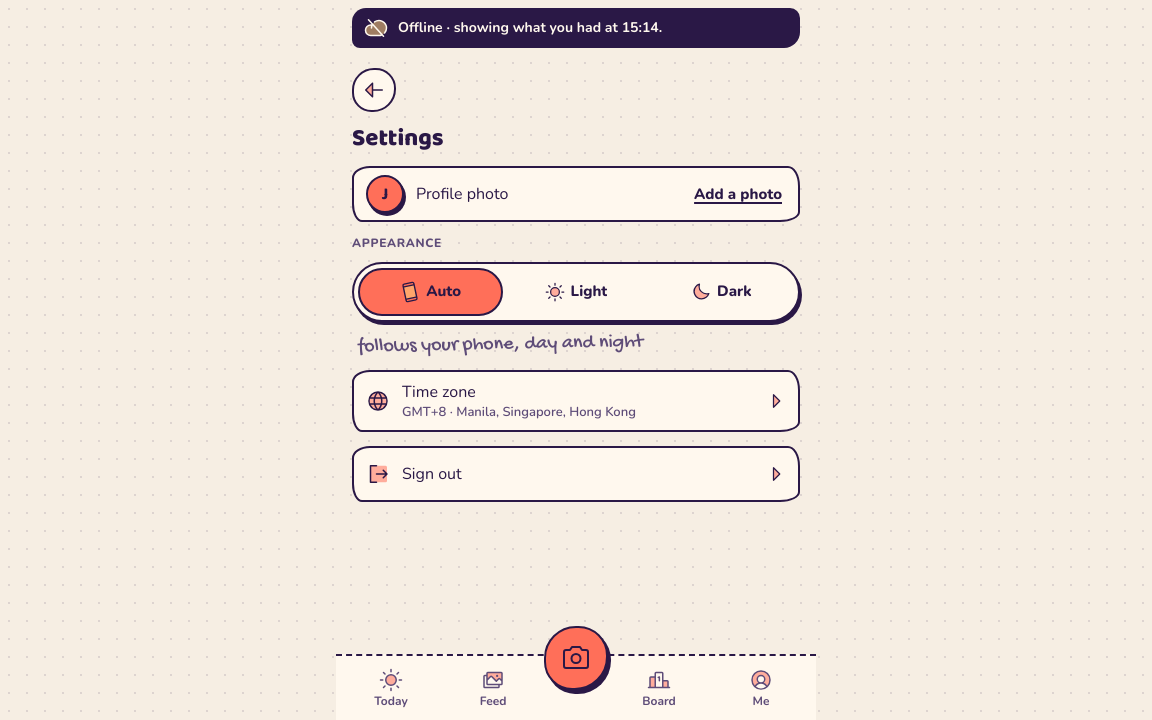
Test: sign-out with waiting photos › Sign out in the Sheet signs out, then deletes the waiting photos
Later steps or results of the test are not shown.
Expected: the heading "Settings" is shown, x1=352 y1=119 x2=444 y2=158
Click the button "Sign out": click(432, 474) x1=354 y1=448 x2=798 y2=500
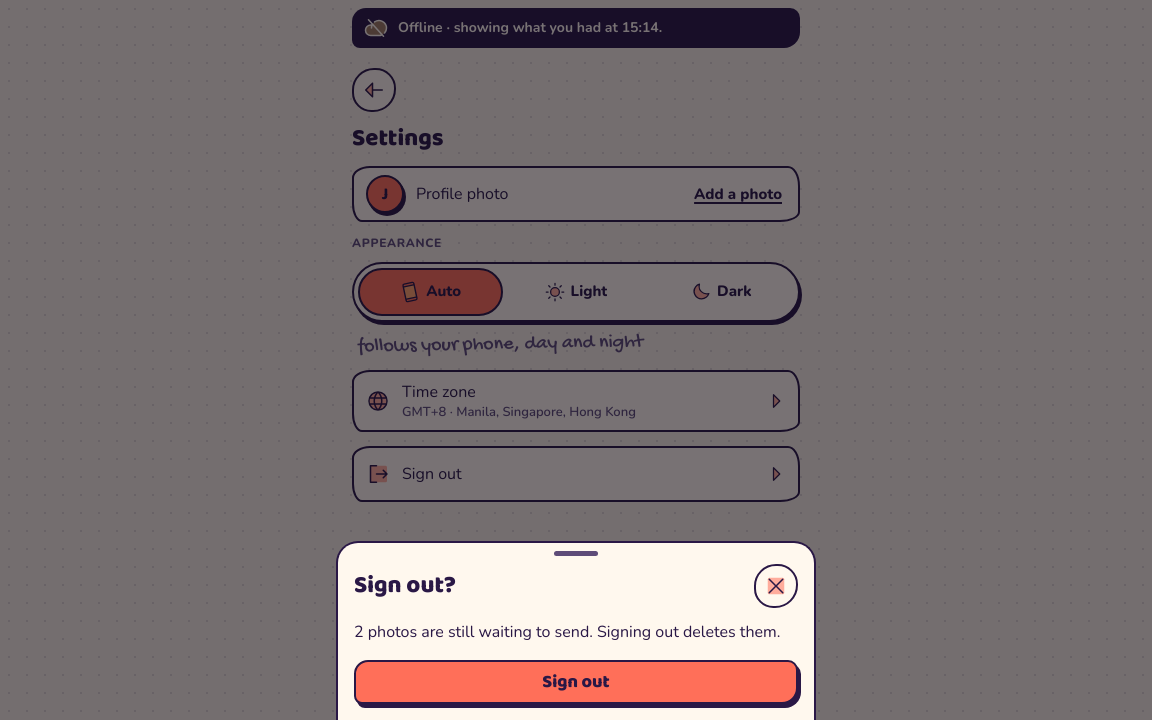
Expected: the dialog "Sign out?" is shown, x1=336 y1=541 x2=816 y2=719
